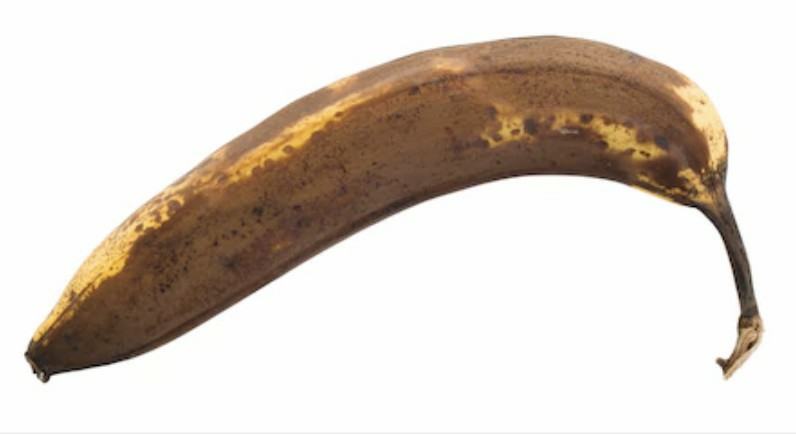rotten_banana: (33, 36, 762, 380)
